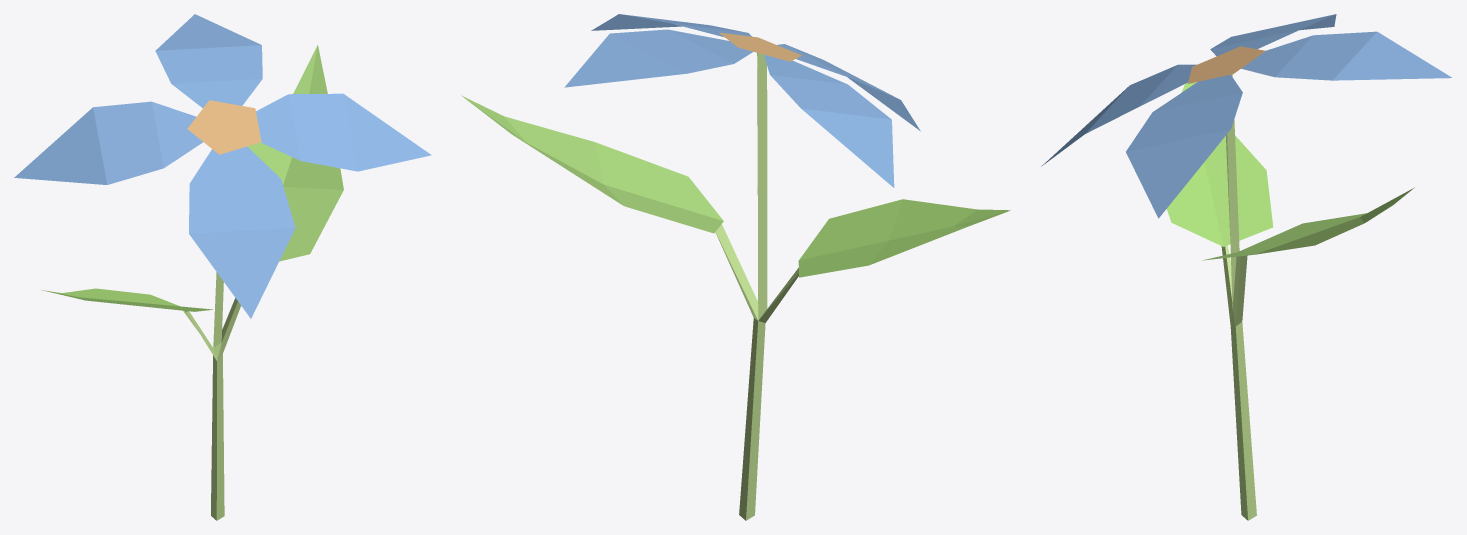
The model's file is Flower_a_OneS_11.fbx.
3 views of the same model, side by side, from view 1: azimuth 30°, elevation 25°; view 2: azimuth 150°, elevation 25°; view 3: azimuth 270°, elevation 25° (orthographic). The views are drawn at different scales.
Parts seen in each view (by area): view 1: Flower_a_OneS_11; view 2: Flower_a_OneS_11; view 3: Flower_a_OneS_11.
Boxes of the visible parts, <box> form: Flower_a_OneS_11: <box>14,14,431,520</box>; Flower_a_OneS_11: <box>461,14,1010,520</box>; Flower_a_OneS_11: <box>1041,14,1451,520</box>.
Bounding box in the file's own units: 0.6031 × 0.6497 × 0.5037.
